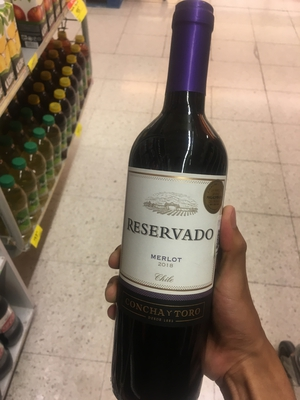reservado merlot: (102, 3, 220, 400)
